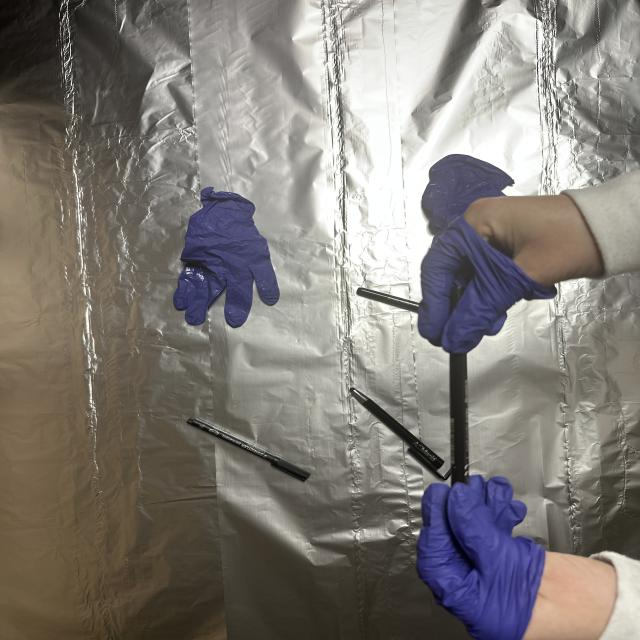glove_partial: (416, 476, 623, 640), (415, 192, 600, 352)
